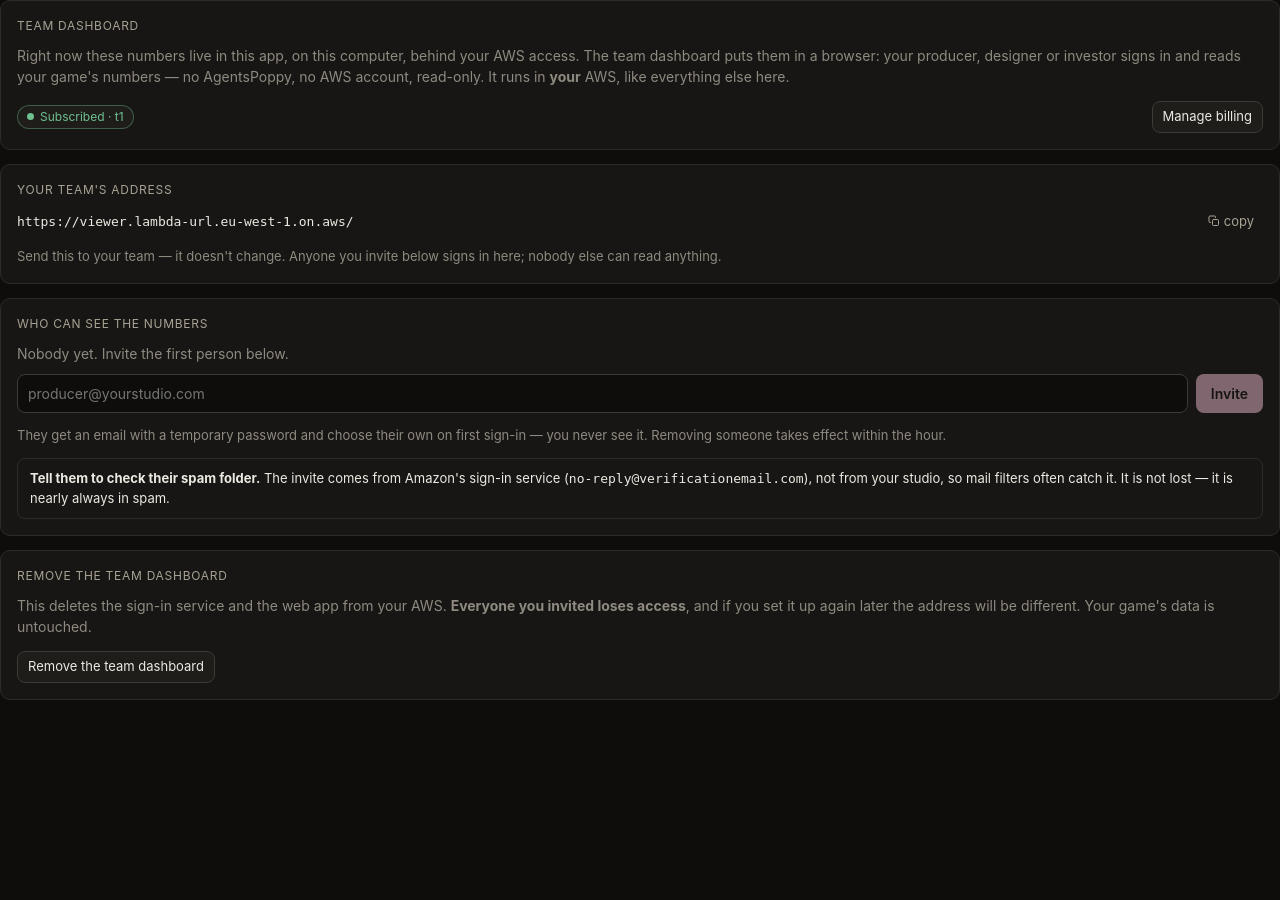
Test: when the dashboard is live › surfaces a rejected invite instead of failing silently
The width and height of the screenshot is (1280, 900).
In the field with placeholder "producer@yourstudio.com": (602,393) x1=17 y1=374 x2=1188 y2=412, type "producer@studio.example"
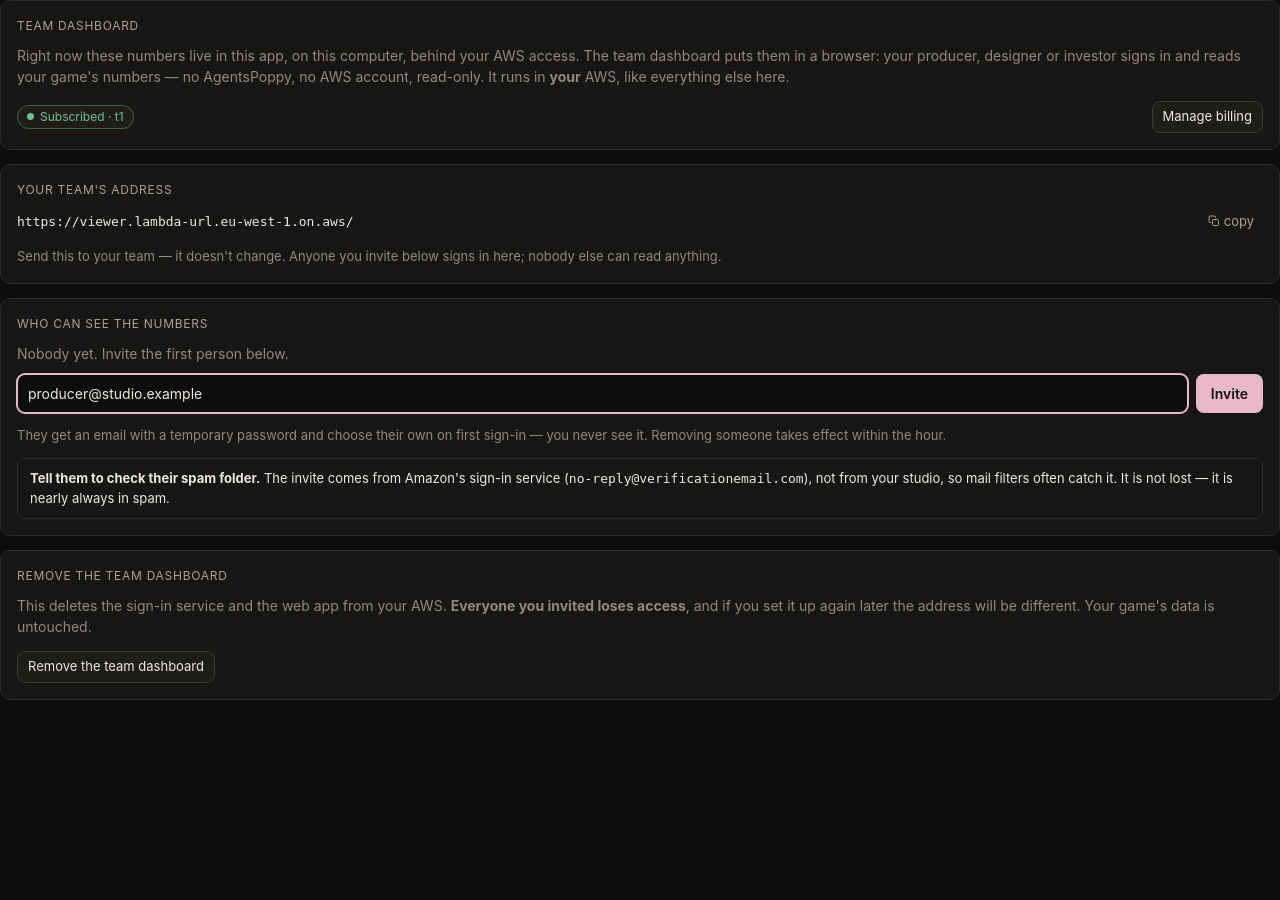
Click the button "Invite": (1229,393) x1=1196 y1=374 x2=1263 y2=412
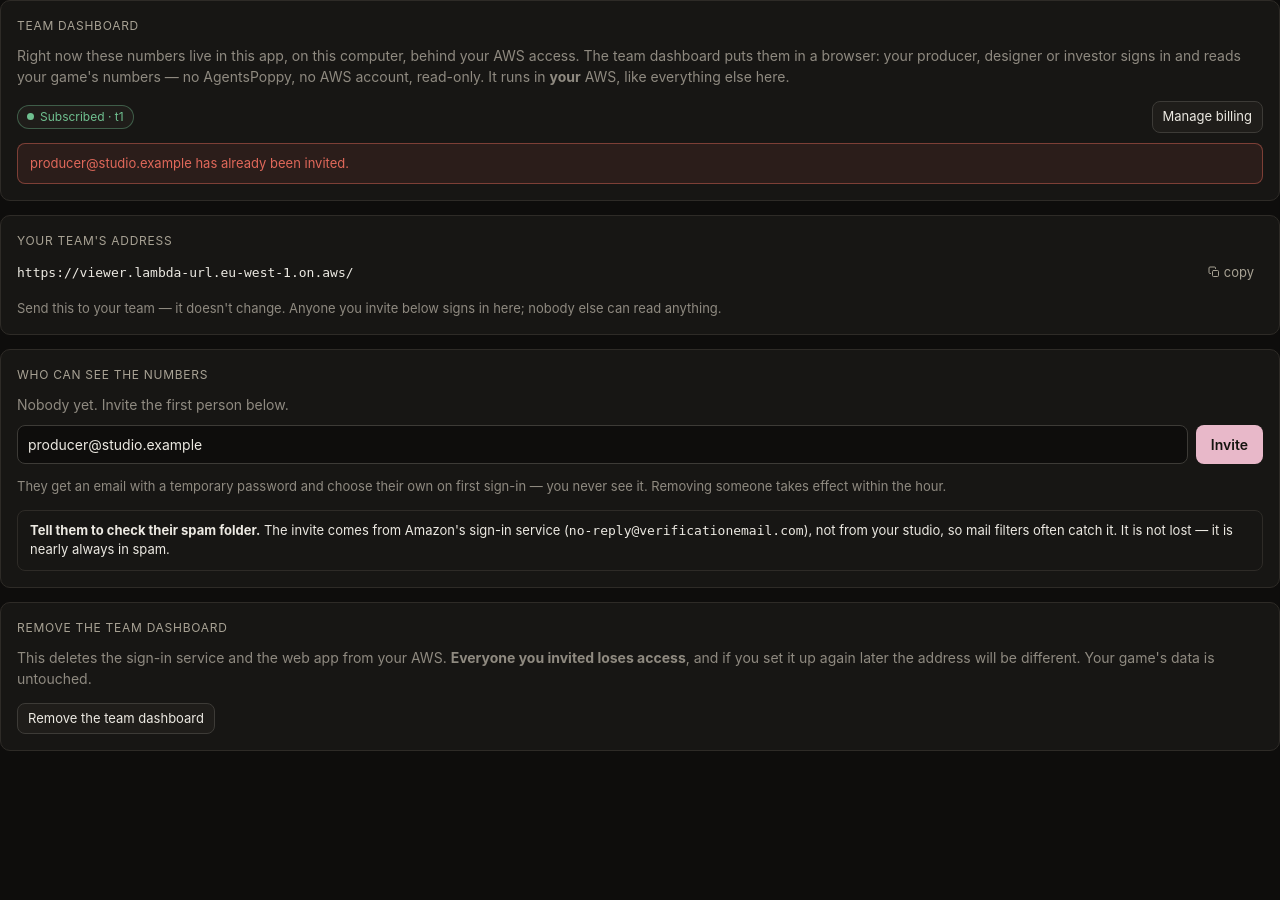
Expected: the text "producer@studio.example has already been invited." is shown, x1=17 y1=142 x2=1263 y2=184
